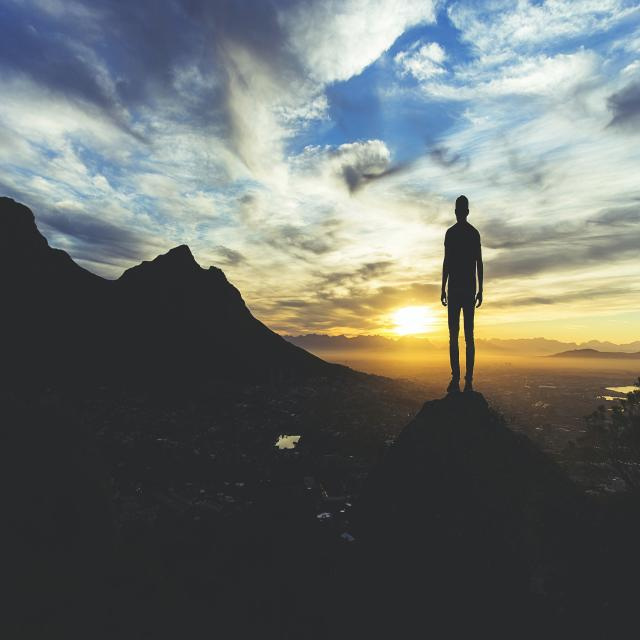adult: (439, 192, 485, 394)
